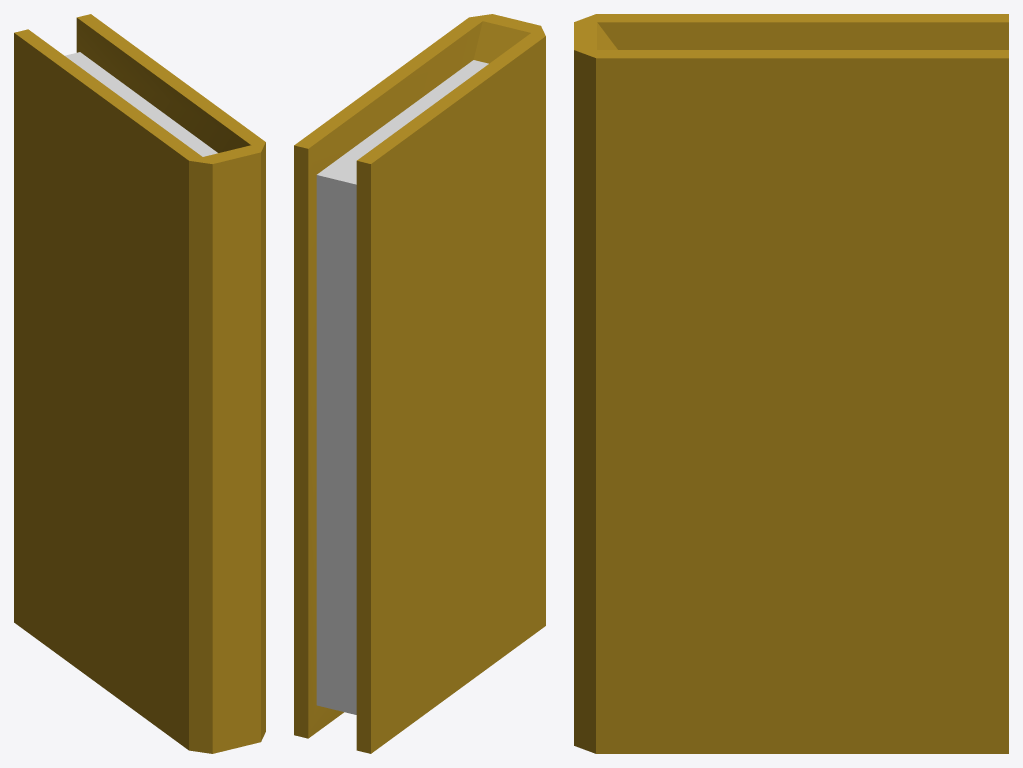
Rendered from misc_book3.001.fbx.
The picture shows the model from 3 angles, left to right: view 1: azimuth 30°, elevation 25°; view 2: azimuth 150°, elevation 25°; view 3: azimuth 270°, elevation 25°; orthographic projection. The views are drawn at different scales.
Parts seen in each view (by area): view 1: misc_book3.001; view 2: misc_book3.001; view 3: misc_book3.001.
Part boxes in pixels (x1,y1,x2,y2): misc_book3.001: (14,14,265,753); misc_book3.001: (294,14,545,753); misc_book3.001: (574,14,1008,753).
Size of the model in its own units: 3.89 by 28.56 by 16.17.
